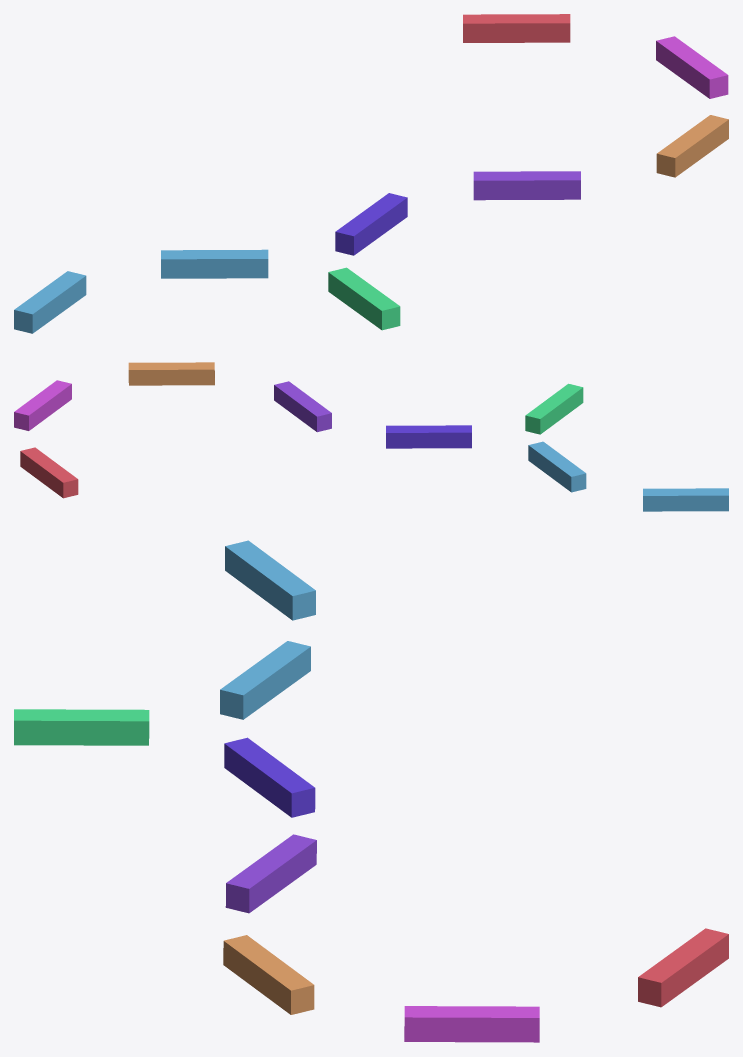
The model's file is roads6.dae.
The picture shows the model from 3 angles, top to bottom: view 1: azimuth 30°, elevation 25°; view 2: azimuth 150°, elevation 25°; view 3: azimuth 270°, elevation 25°; orthographic projection. The views are drawn at different scales.
Visible parts, largest first — view 1: road.040; view 2: road.040; view 3: road.040.
Boxes of the visible parts, x1=… form: road.040: x1=14, y1=14, x2=728, y2=333; road.040: x1=14, y1=362, x2=728, y2=511; road.040: x1=14, y1=540, x2=728, y2=1042.
Bounding box in the file's own units: 4.18 × 2.65 × 0.1024.
